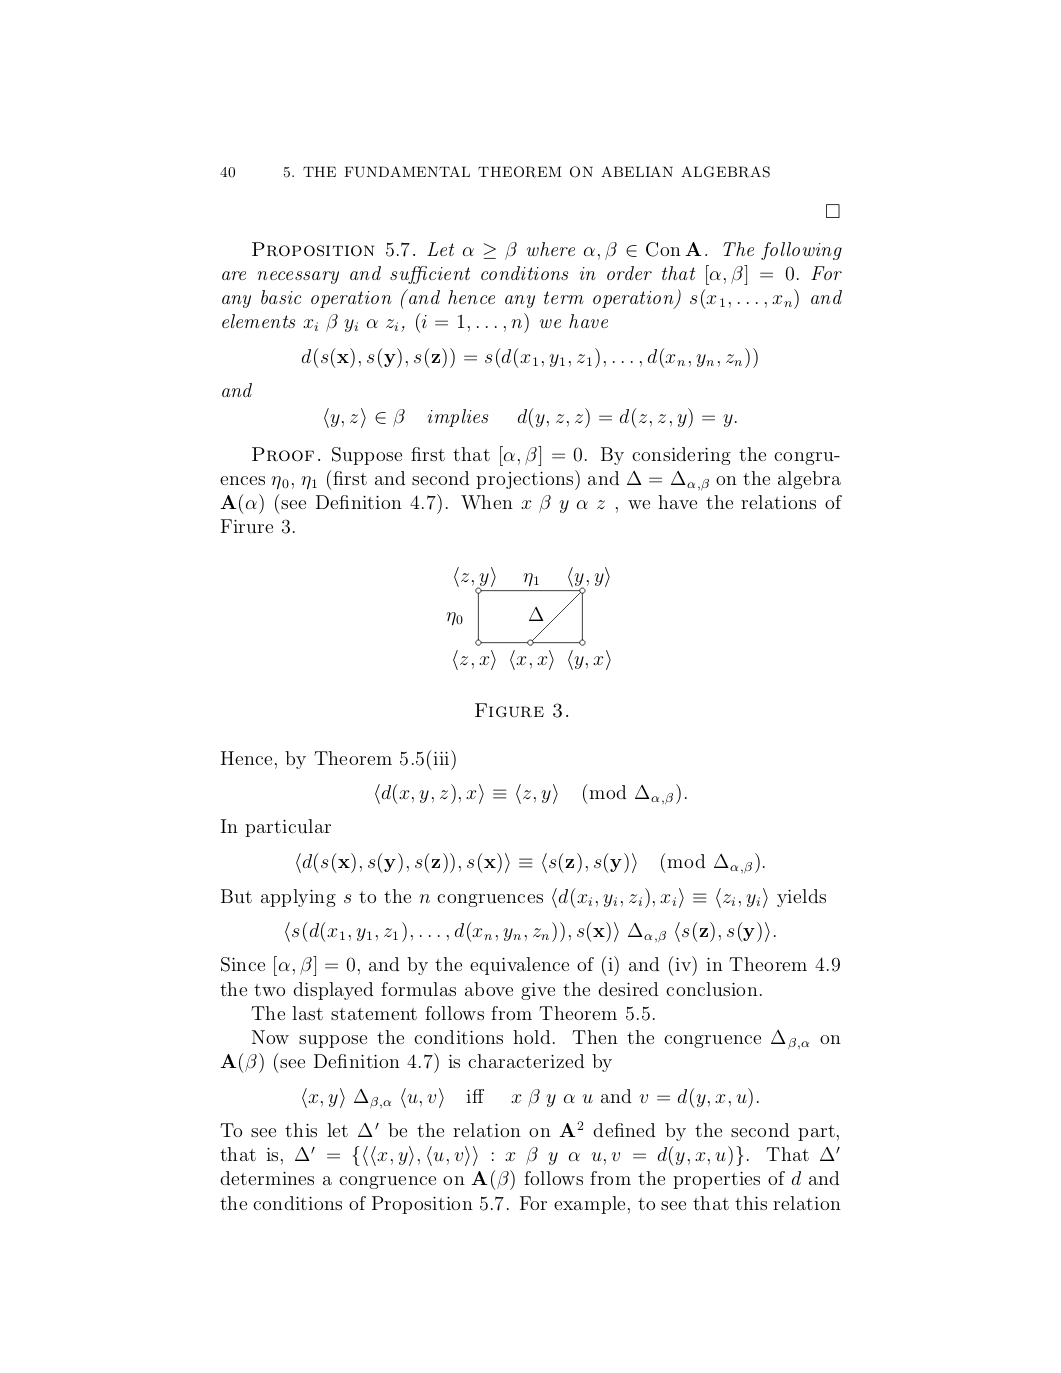figure: (446, 567, 610, 669)
formula: (285, 921, 775, 943), (302, 1087, 758, 1109), (296, 853, 765, 874), (301, 347, 757, 368), (324, 407, 736, 428), (374, 782, 687, 805)
